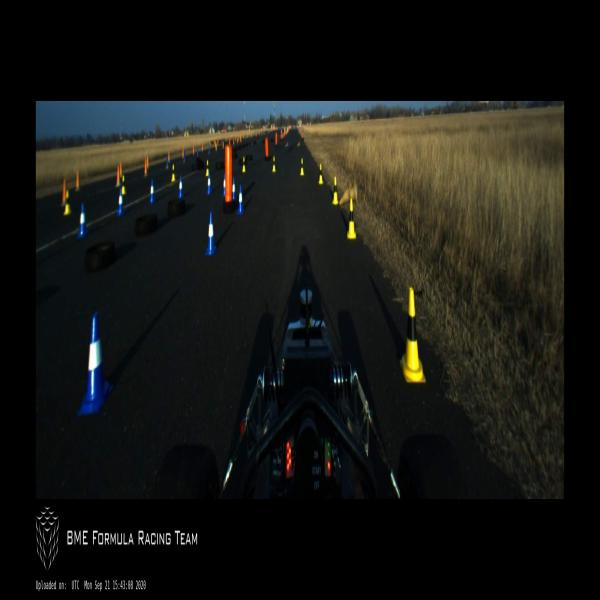blue_cone: (77, 312, 113, 415), (205, 211, 218, 255), (77, 203, 89, 238), (116, 188, 125, 216), (237, 184, 244, 216), (148, 182, 156, 205), (178, 173, 184, 199), (206, 172, 212, 195), (232, 176, 237, 202), (222, 173, 225, 196)
yellow_cone: (399, 288, 426, 384), (346, 199, 356, 239), (64, 190, 72, 216), (332, 176, 339, 205), (318, 163, 324, 183), (121, 176, 126, 196), (241, 156, 246, 173), (300, 157, 304, 176), (205, 160, 209, 178), (171, 164, 175, 182), (272, 155, 276, 172)
